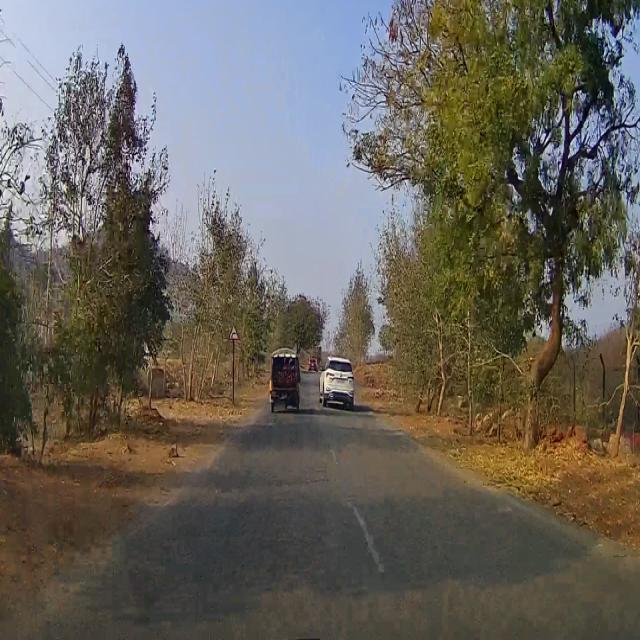right-hand-curve: (228, 323, 240, 340)
